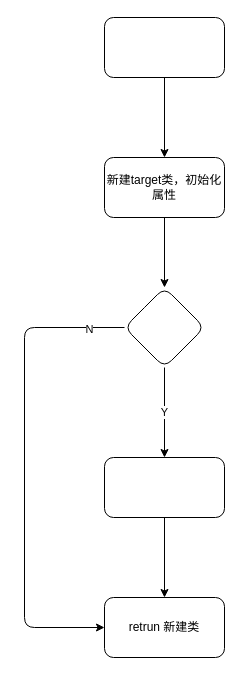
This 242x675 diagram has some shape labels left out. The centre of each missing label's shape, as x and y in pixels:
"has children" goes at point 164,327.
"target clone" goes at point 164,47.
